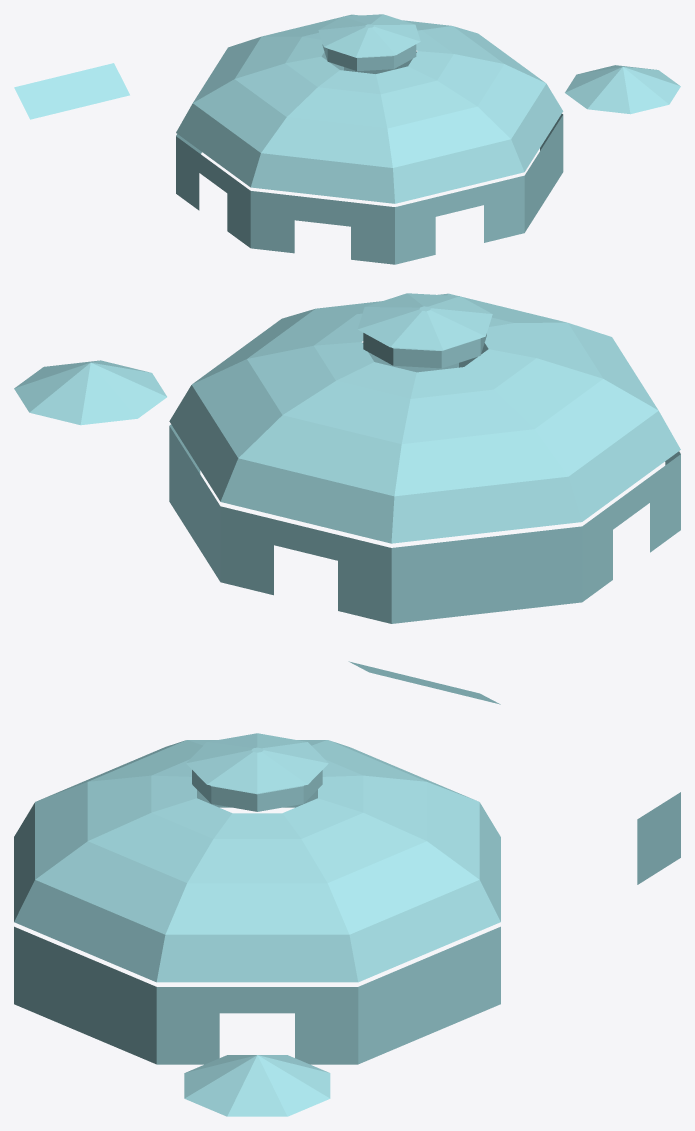
The model's file is glasshouse_glass.glb.
3 views of the same model, one above another, from view 1: azimuth 30°, elevation 25°; view 2: azimuth 150°, elevation 25°; view 3: azimuth 270°, elevation 25° (orthographic). The views are drawn at different scales.
Visible parts, largest first — view 1: glasshouse_glass; view 2: glasshouse_glass; view 3: glasshouse_glass.
Boxes of the visible parts, <box> form: glasshouse_glass: <box>14,14,680,264</box>; glasshouse_glass: <box>14,293,680,704</box>; glasshouse_glass: <box>14,733,680,1116</box>.
Bounding box in the file's own units: 31.9 × 9.59 × 27.4.
